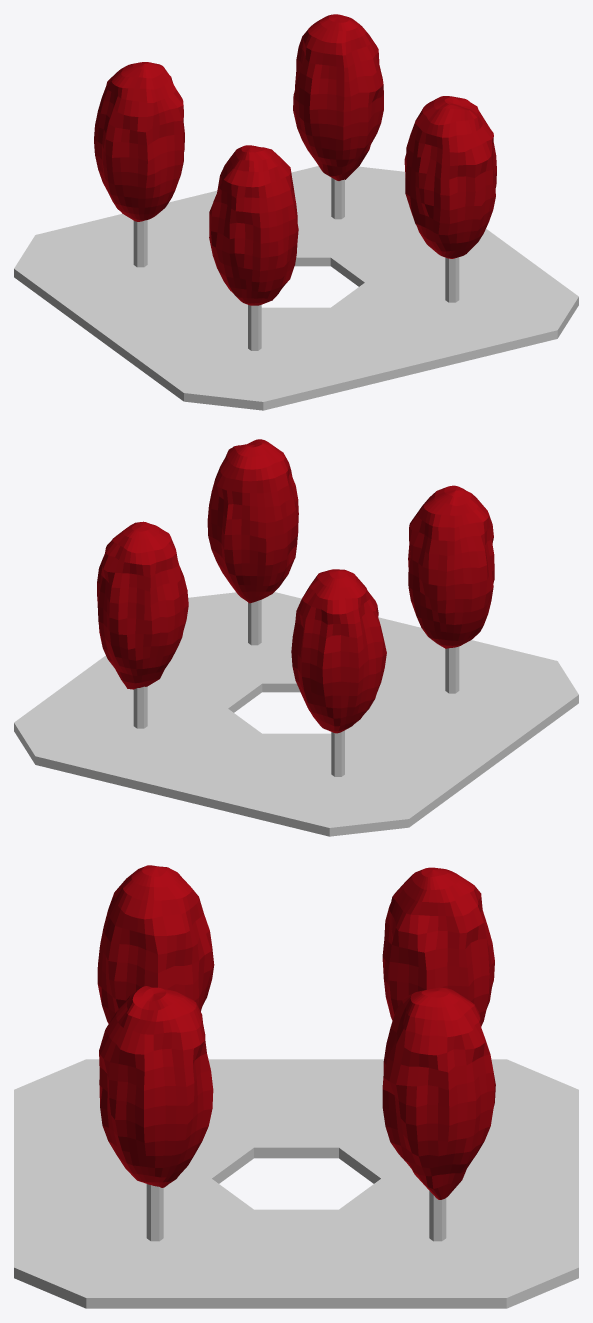
Rendered from SynthMeatBuilding.fbx.
3 renders of one model, top to bottom at view 1: azimuth 30°, elevation 25°; view 2: azimuth 150°, elevation 25°; view 3: azimuth 270°, elevation 25°, orthographic. The views are drawn at different scales.
Parts seen in each view (by area): view 1: SynthMeatBuilding, SynthMeat; view 2: SynthMeatBuilding, SynthMeat; view 3: SynthMeatBuilding, SynthMeat.
Part boxes in pixels (x1,y1,x2,y2): SynthMeatBuilding: (14,166,578,410); SynthMeat: (94,14,496,305); SynthMeatBuilding: (14,592,578,836); SynthMeat: (97,439,494,733); SynthMeatBuilding: (14,1059,578,1308); SynthMeat: (97,865,495,1199).
Bounding box in the file's own units: 10 × 10 × 5.09.
